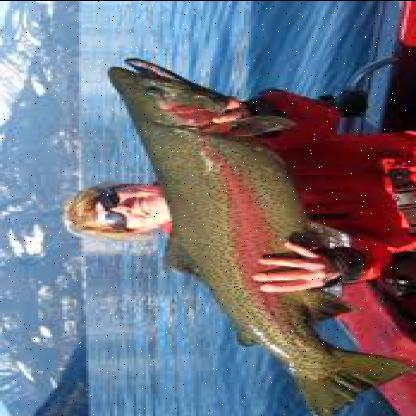fish: (98, 54, 409, 416)
